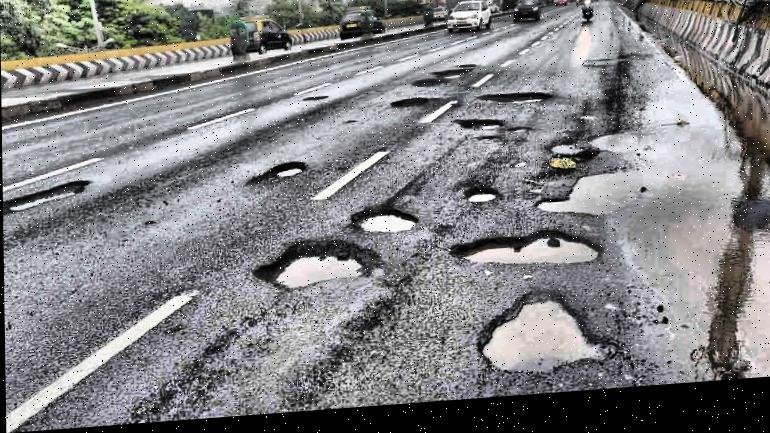pothole: (476, 294, 607, 385), (450, 234, 606, 290), (256, 240, 384, 300), (351, 208, 421, 245), (5, 180, 88, 210), (483, 96, 553, 118), (458, 121, 504, 142), (464, 189, 498, 216), (269, 165, 305, 184), (434, 72, 469, 90), (391, 101, 428, 115), (548, 148, 582, 163)
